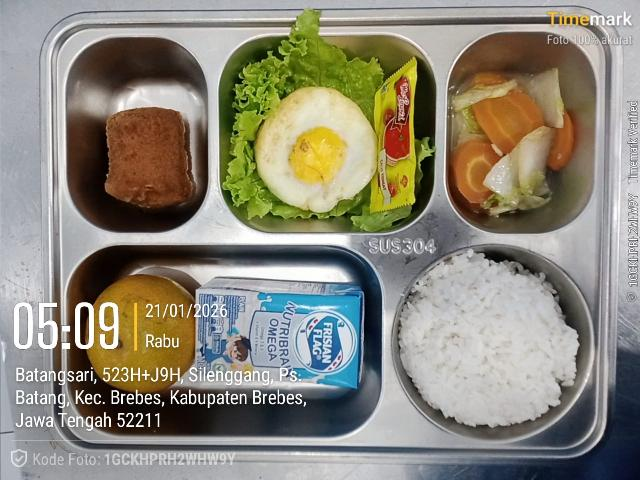buah: (85, 274, 195, 393)
nasi: (399, 250, 579, 427)
sayur: (222, 9, 412, 232), (471, 90, 544, 153)
susu: (195, 277, 364, 388)
tahu: (104, 107, 192, 208)
telur: (254, 87, 377, 212)
